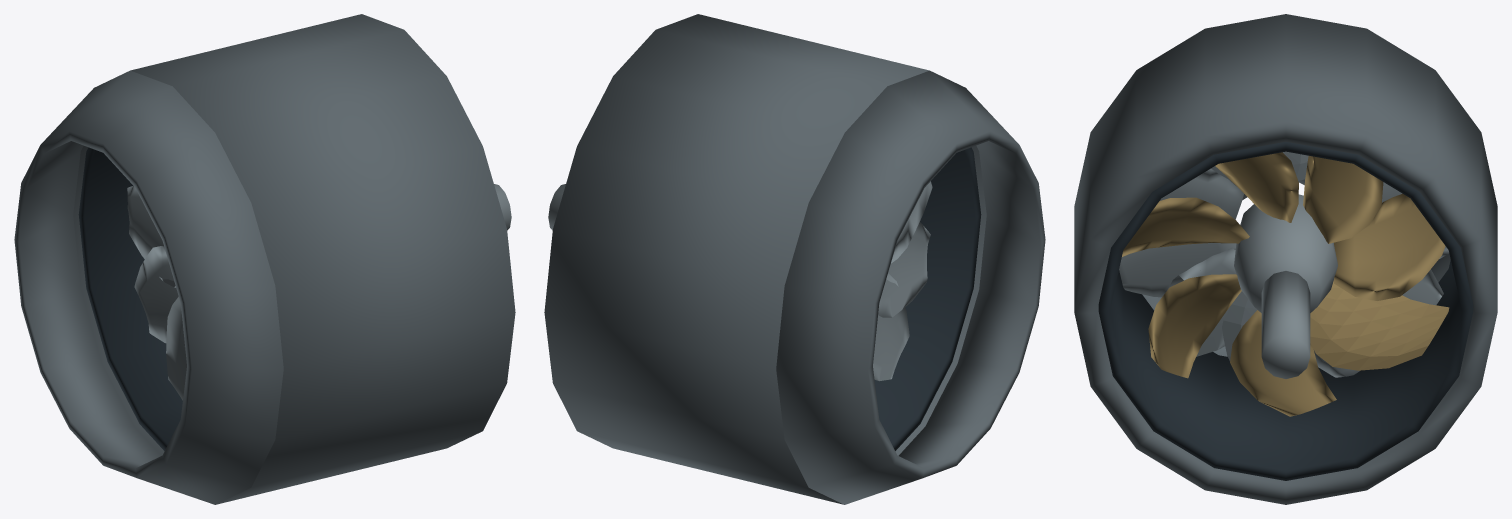
File: US_PJ_Seawolf_LOD2.fbx
3 views of the same model, side by side, from view 1: azimuth 30°, elevation 25°; view 2: azimuth 150°, elevation 25°; view 3: azimuth 270°, elevation 25° (orthographic). The views are drawn at different scales.
Visible parts, largest first — view 1: US_PJ_Seawolf_LOD2_Housing.001, US_PJ_Seawolf_LOD2_Nozzle.001, US_PJ_Seawolf_LOD2_Lining.001, US_PJ_Seawolf_LOD2_Stator_10.001, US_PJ_Seawolf_LOD2_Stator_09.001, US_PJ_Seawolf_LOD2_Stator_00.001; view 2: US_PJ_Seawolf_LOD2_Housing.001, US_PJ_Seawolf_LOD2_Nozzle.001, US_PJ_Seawolf_LOD2_Lining.001, US_PJ_Seawolf_LOD2_Stator_06.001, US_PJ_Seawolf_LOD2_Stator_07.001, US_PJ_Seawolf_LOD2_Stator_05.001; view 3: US_PJ_Seawolf_LOD2_Housing.001, US_PJ_Seawolf_LOD2_Lining.001, US_PJ_Seawolf_LOD2_Rotor_06.001, US_PJ_Seawolf_LOD2_Rotor_00.001, US_PJ_Seawolf_LOD2_Hub.001, US_PJ_Seawolf_LOD2_Rotor_04.001, US_PJ_Seawolf_LOD2_Rotor_01.001, US_PJ_Seawolf_LOD2_Shaft.001, US_PJ_Seawolf_LOD2_Rotor_05.001, US_PJ_Seawolf_LOD2_Rotor_03.001, US_PJ_Seawolf_LOD2_Rotor_02.001, US_PJ_Seawolf_LOD2_Stator_06.001 (+5 smaller).
Part boxes in pixels (<box>): US_PJ_Seawolf_LOD2_Housing.001: <box>73,14,515,504</box>; US_PJ_Seawolf_LOD2_Nozzle.001: <box>14,70,283,504</box>; US_PJ_Seawolf_LOD2_Lining.001: <box>78,147,182,450</box>; US_PJ_Seawolf_LOD2_Stator_10.001: <box>134,246,184,347</box>; US_PJ_Seawolf_LOD2_Stator_09.001: <box>166,296,186,400</box>; US_PJ_Seawolf_LOD2_Stator_00.001: <box>127,185,175,287</box>; US_PJ_Seawolf_LOD2_Housing.001: <box>544,14,986,504</box>; US_PJ_Seawolf_LOD2_Nozzle.001: <box>776,70,1045,504</box>; US_PJ_Seawolf_LOD2_Lining.001: <box>874,147,981,450</box>; US_PJ_Seawolf_LOD2_Stator_06.001: <box>878,222,930,317</box>; US_PJ_Seawolf_LOD2_Stator_07.001: <box>873,273,909,381</box>; US_PJ_Seawolf_LOD2_Stator_05.001: <box>891,181,932,263</box>; US_PJ_Seawolf_LOD2_Housing.001: <box>1074,14,1497,504</box>; US_PJ_Seawolf_LOD2_Lining.001: <box>1098,141,1473,480</box>; US_PJ_Seawolf_LOD2_Rotor_06.001: <box>1310,280,1449,370</box>; US_PJ_Seawolf_LOD2_Rotor_00.001: <box>1334,193,1445,300</box>; US_PJ_Seawolf_LOD2_Hub.001: <box>1234,194,1337,312</box>; US_PJ_Seawolf_LOD2_Rotor_04.001: <box>1148,274,1241,378</box>; US_PJ_Seawolf_LOD2_Rotor_01.001: <box>1303,156,1383,243</box>; US_PJ_Seawolf_LOD2_Shaft.001: <box>1261,271,1310,378</box>; US_PJ_Seawolf_LOD2_Rotor_05.001: <box>1230,310,1336,416</box>; US_PJ_Seawolf_LOD2_Rotor_03.001: <box>1122,197,1249,256</box>; US_PJ_Seawolf_LOD2_Rotor_02.001: <box>1215,152,1298,222</box>; US_PJ_Seawolf_LOD2_Stator_06.001: <box>1119,243,1236,297</box>.
Bounding box in the file's own units: 627 × 610 × 610.
